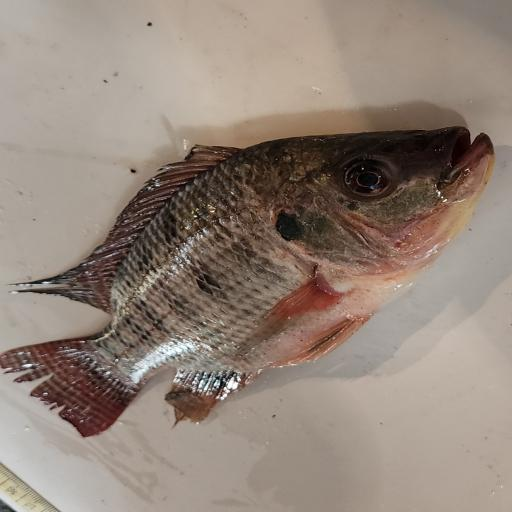Tilapia: (0, 125, 496, 438)
